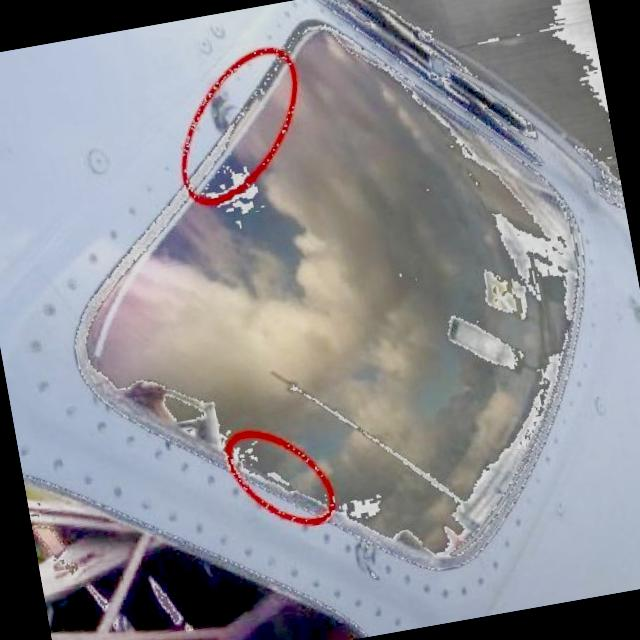crack: (349, 534, 378, 582)
